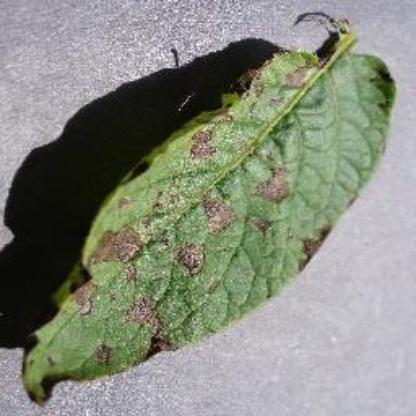Early-Blight: (24, 14, 400, 406)
